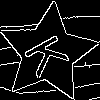K: (23, 28, 78, 79)
